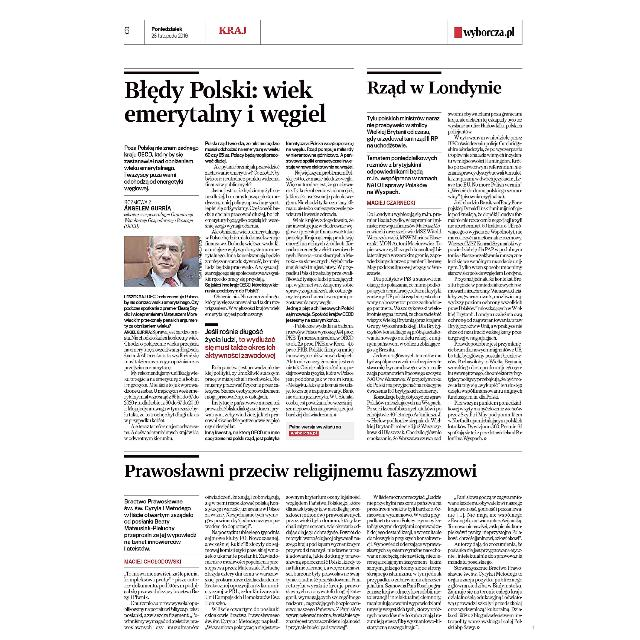article: (121, 68, 357, 446), (122, 453, 526, 635), (364, 68, 530, 446)
